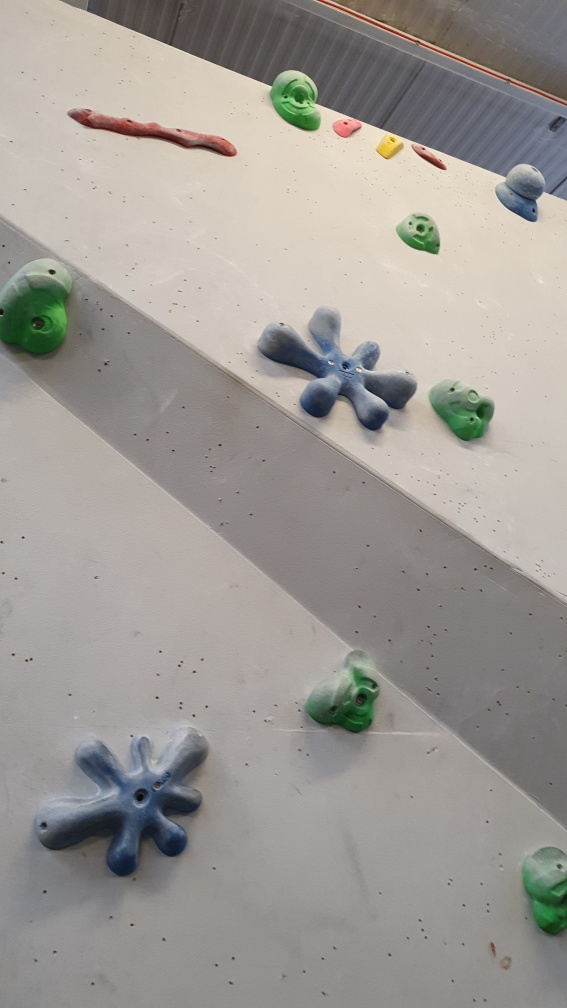Crimp: (412, 139, 451, 170), (333, 116, 371, 142)
Jug: (294, 642, 383, 740), (1, 255, 81, 360), (430, 376, 500, 451), (266, 68, 324, 138), (394, 208, 443, 262)
Octopus Pinch: (30, 723, 214, 880), (253, 303, 422, 435)
Sloper: (494, 162, 548, 224)
